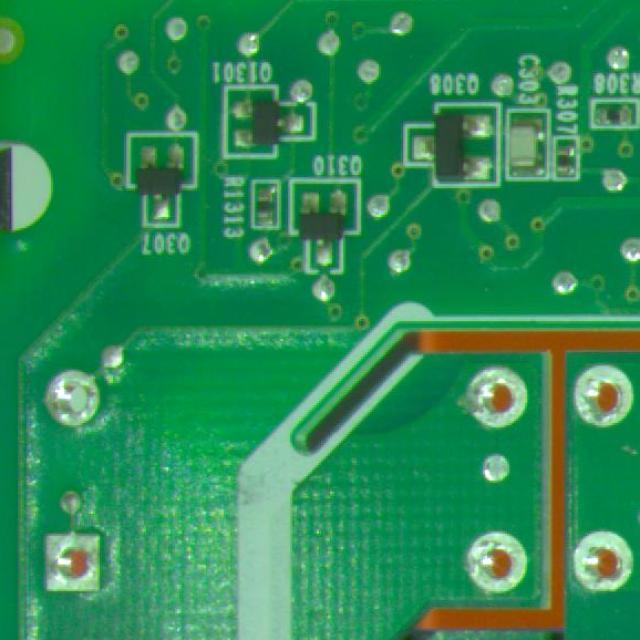Insufficient solder: (43, 366, 121, 441), (40, 522, 113, 600), (569, 356, 639, 436), (462, 360, 532, 436), (464, 522, 532, 600), (569, 527, 637, 598)
